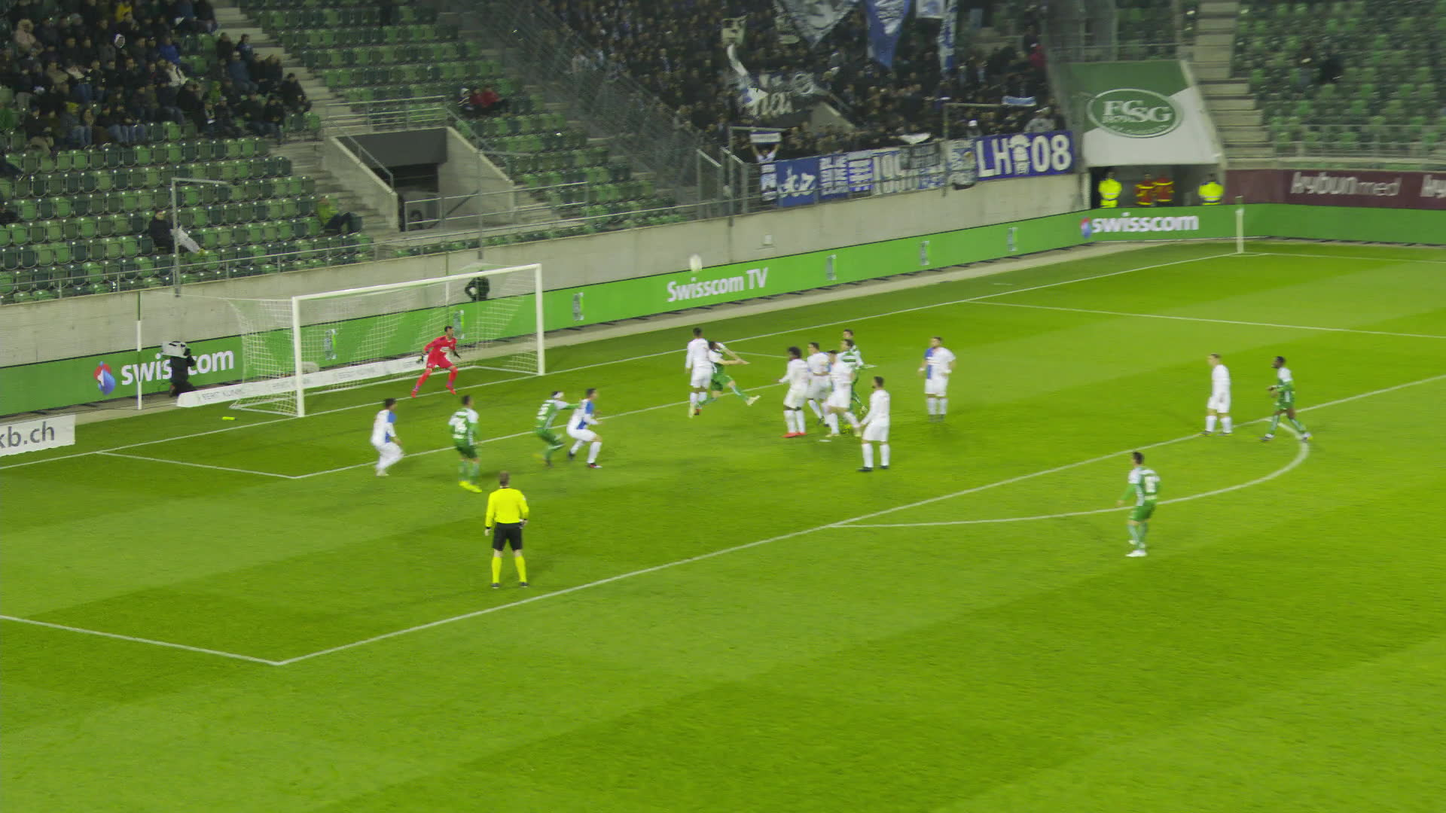ball: (691, 276, 704, 291)
player: (509, 389, 577, 468), (695, 340, 751, 424), (1112, 449, 1153, 556), (415, 327, 465, 399), (1257, 355, 1298, 442), (441, 398, 479, 489), (908, 339, 948, 423), (822, 348, 860, 435), (560, 386, 597, 468), (852, 376, 884, 470), (673, 332, 706, 422), (770, 346, 803, 435), (371, 397, 404, 475), (1196, 352, 1226, 436), (799, 338, 825, 425), (830, 336, 854, 420), (837, 329, 854, 405)
referee: (483, 471, 527, 588)
